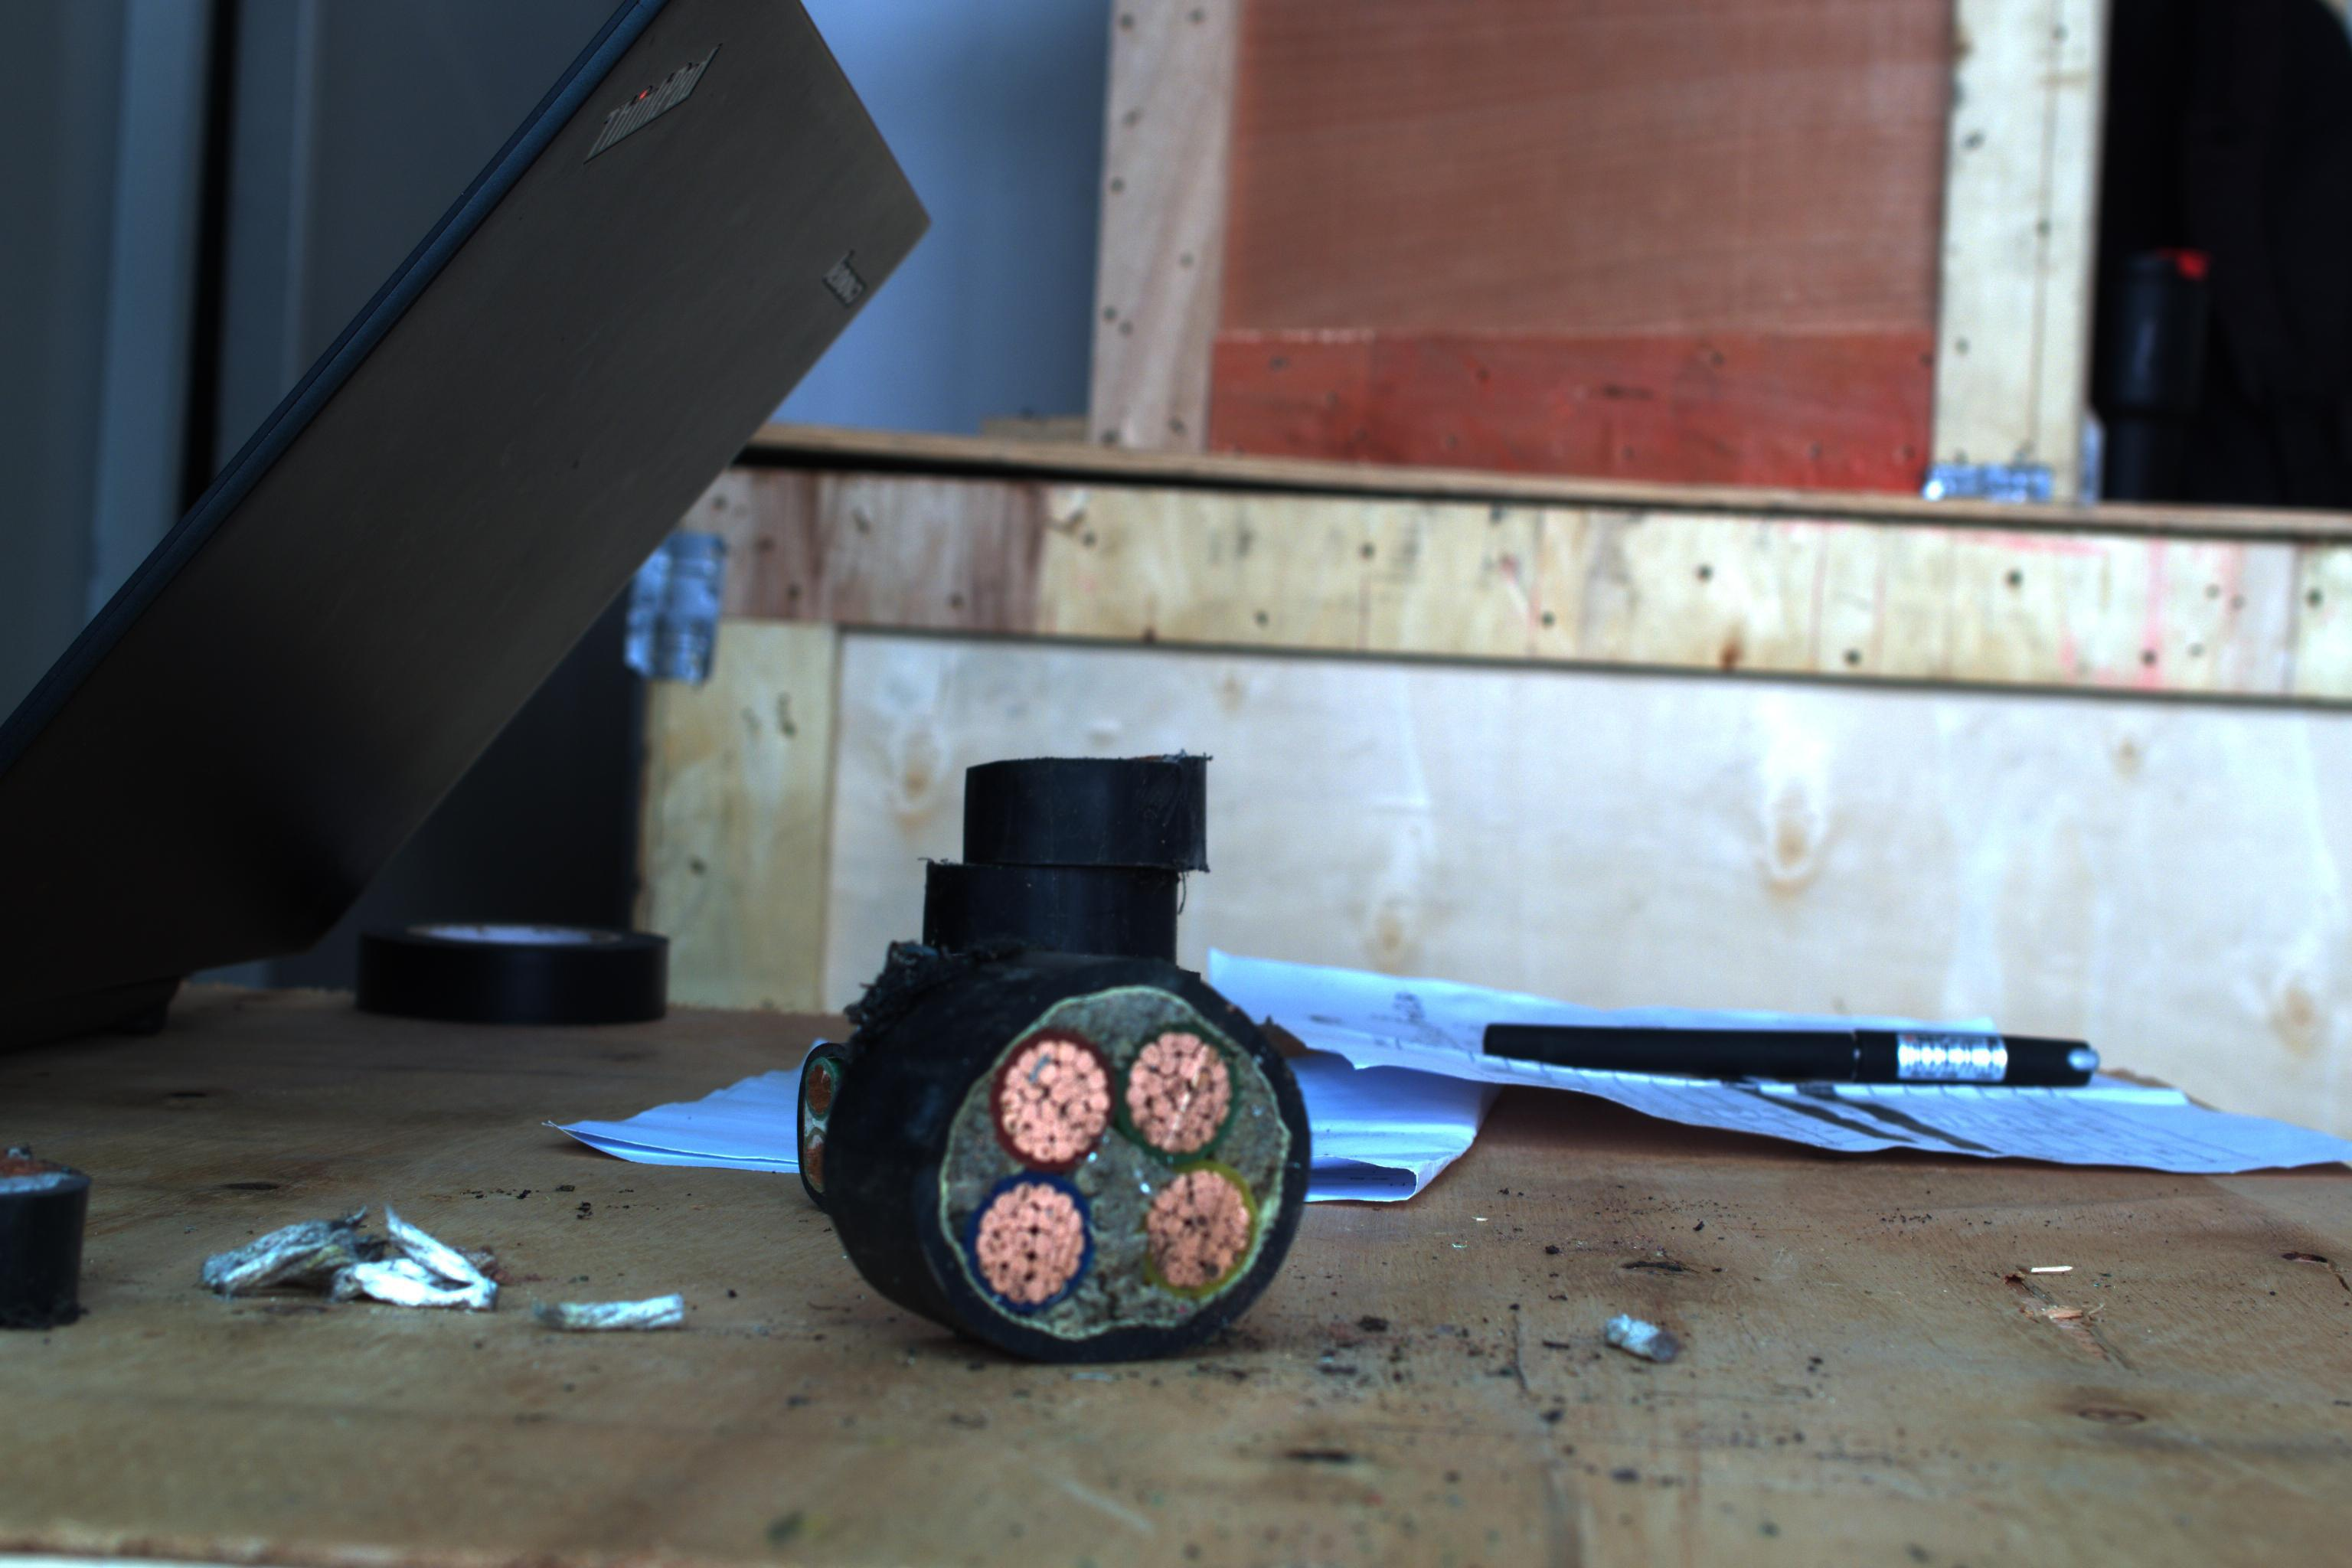YJV_0.6_1kV_4x120: (941, 955, 1330, 1340)
